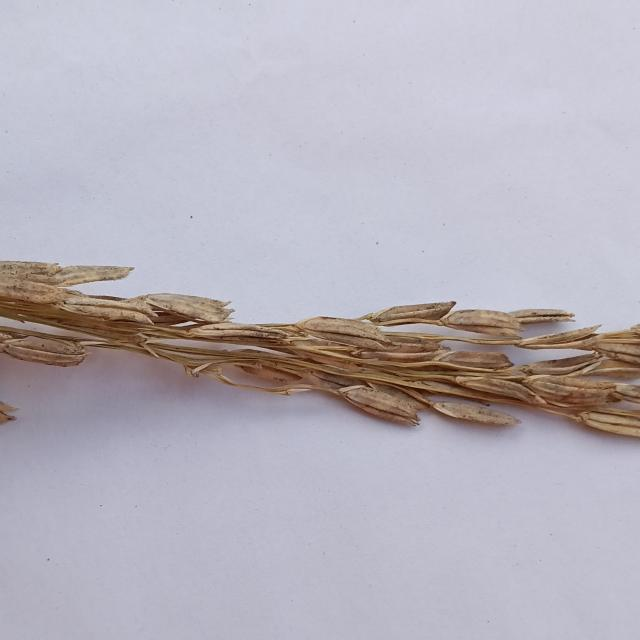Neck_Blast: (0, 265, 640, 454)
